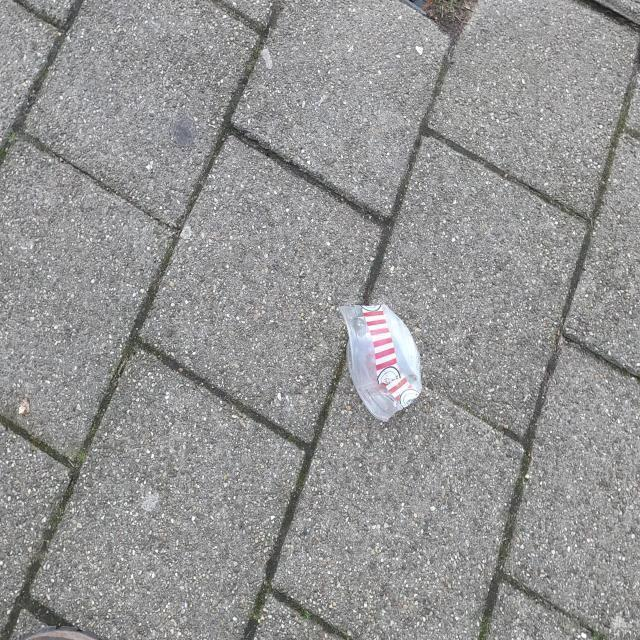Cup: (336, 297, 424, 419)
